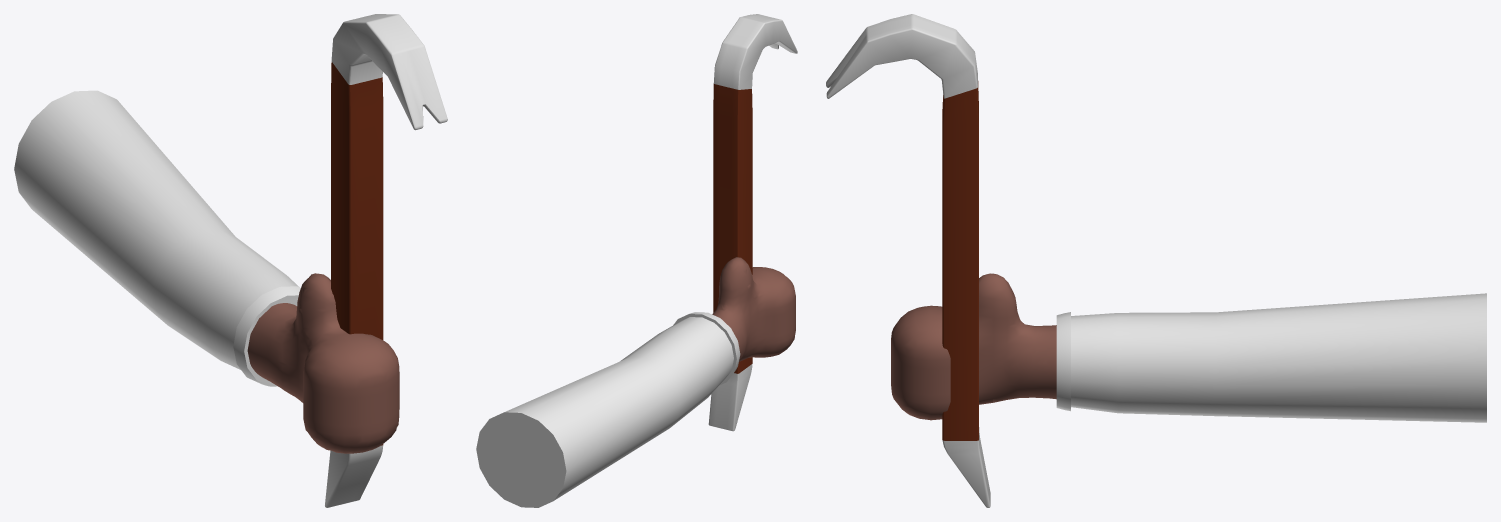
The model's file is crowbar_hand.glb.
The picture shows the model from 3 angles, left to right: view 1: azimuth 30°, elevation 25°; view 2: azimuth 150°, elevation 25°; view 3: azimuth 270°, elevation 25°; orthographic projection. The views are drawn at different scales.
Visible parts, largest first — view 1: Cylinder.012, Cube.001, Mball.004; view 2: Cylinder.012, Cube.001, Mball.004; view 3: Cylinder.012, Cube.001, Mball.004.
Part boxes in pixels (box(x1,y1,x2,y2)): Cylinder.012: box(14, 90, 300, 386); Cube.001: box(325, 14, 447, 507); Mball.004: box(247, 273, 399, 453); Cylinder.012: box(476, 312, 740, 507); Cube.001: box(708, 14, 797, 431); Mball.004: box(712, 257, 795, 361); Cylinder.012: box(1056, 293, 1486, 422); Cube.001: box(826, 14, 990, 507); Mball.004: box(891, 273, 1056, 420).
Size of the model in its own units: 0.6716 by 2.6 by 3.25.
